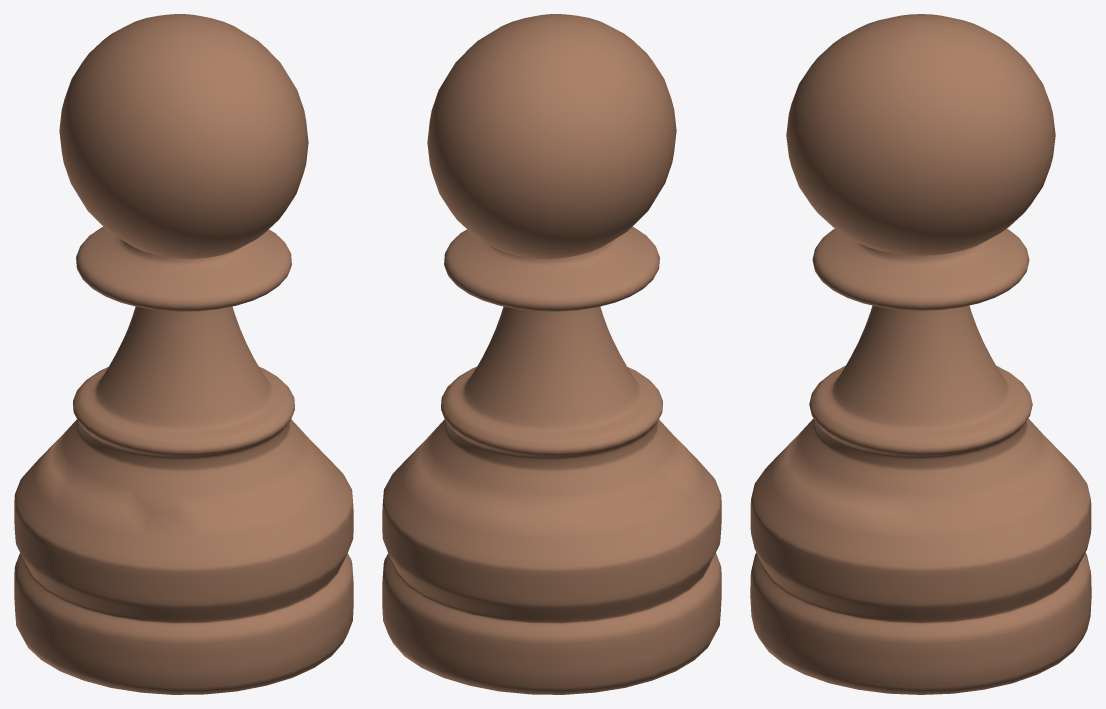
Rendered from N_Pawn.fbx.
3 views of the same model, side by side, from view 1: azimuth 30°, elevation 25°; view 2: azimuth 150°, elevation 25°; view 3: azimuth 270°, elevation 25° (orthographic).
Parts seen in each view (by area): view 1: Cube; view 2: Cube; view 3: Cube.
Boxes of the visible parts, left/top/right/bottom form: Cube: left=14, top=14, right=353, bottom=694; Cube: left=382, top=14, right=721, bottom=694; Cube: left=750, top=14, right=1091, bottom=694.
Size of the model in its own units: 253 by 495 by 253.
